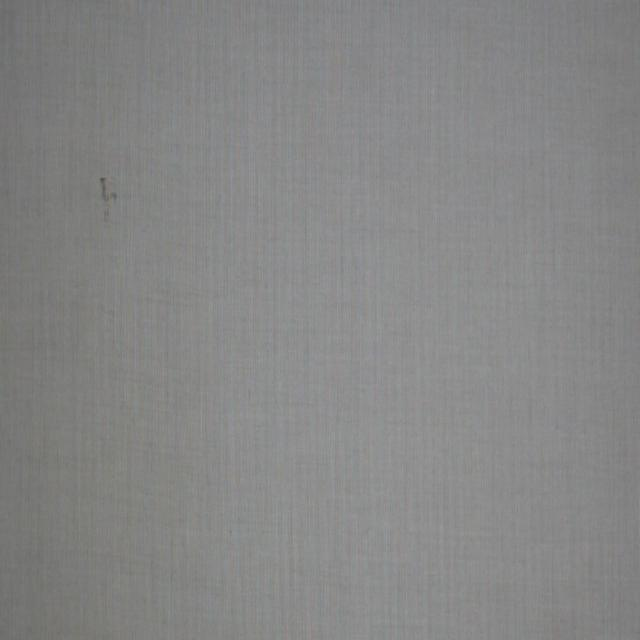dirty: (100, 177, 119, 205)
